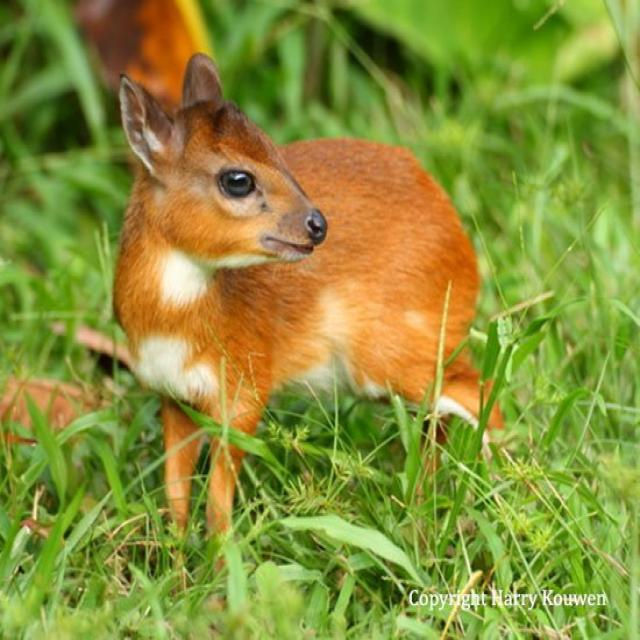Antelope: (107, 42, 482, 591)
